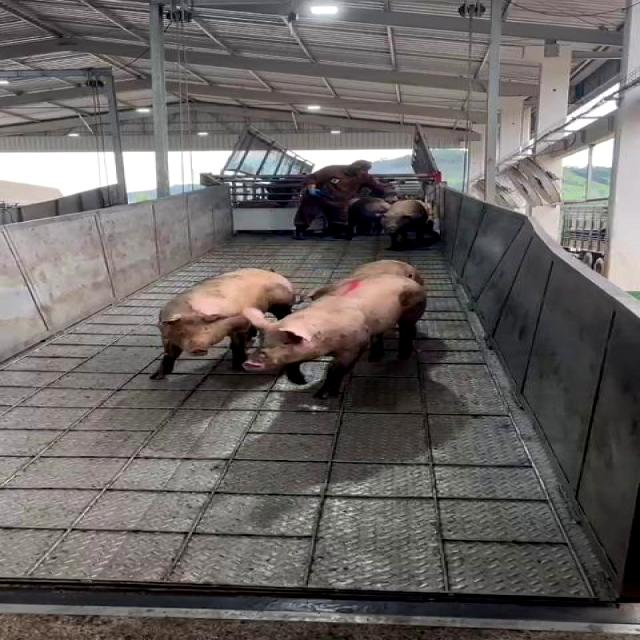pig: (244, 276, 425, 396), (159, 269, 297, 376), (382, 200, 427, 247), (352, 261, 423, 283)
